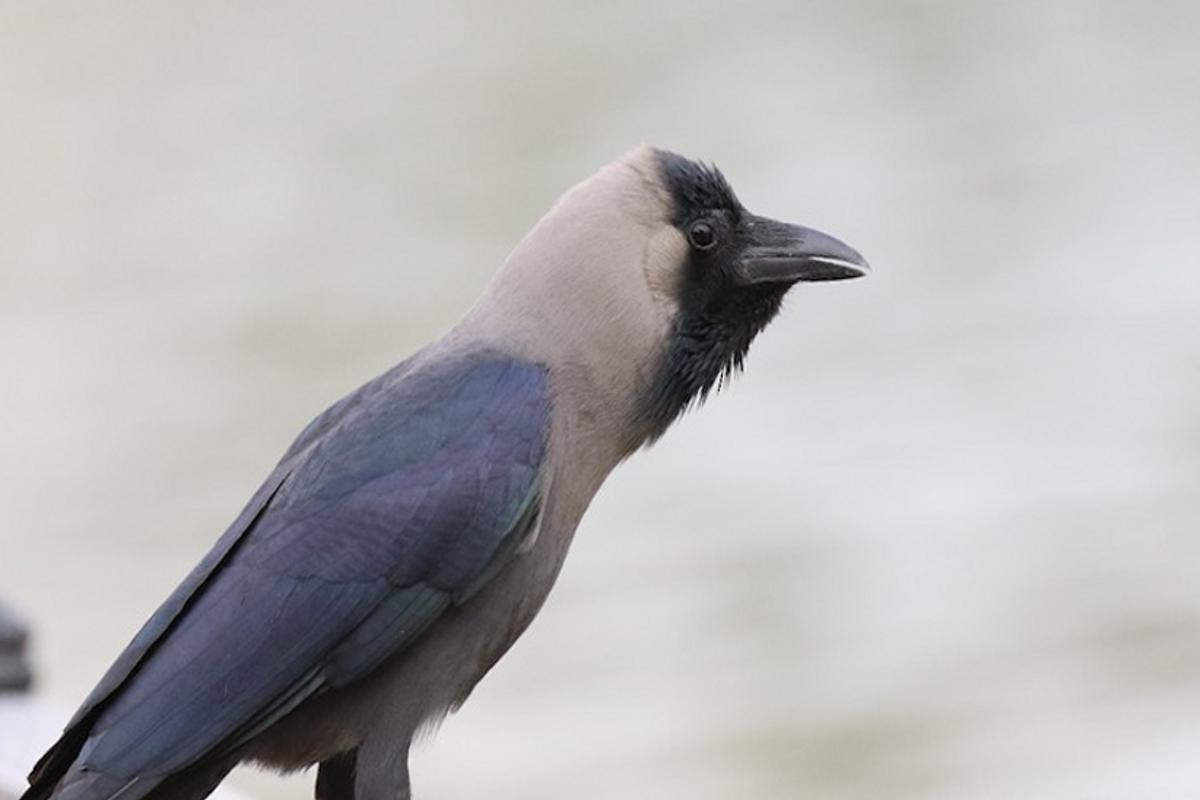crow: (44, 151, 880, 800)
